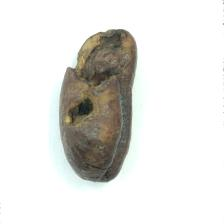NG: (60, 29, 137, 183)
